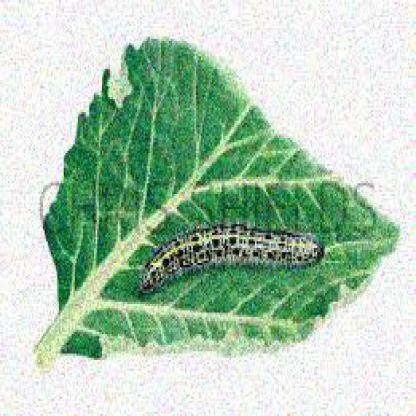pieris: (135, 228, 325, 291)
